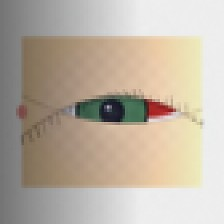hemorrhage_spot: (98, 67, 193, 143)
